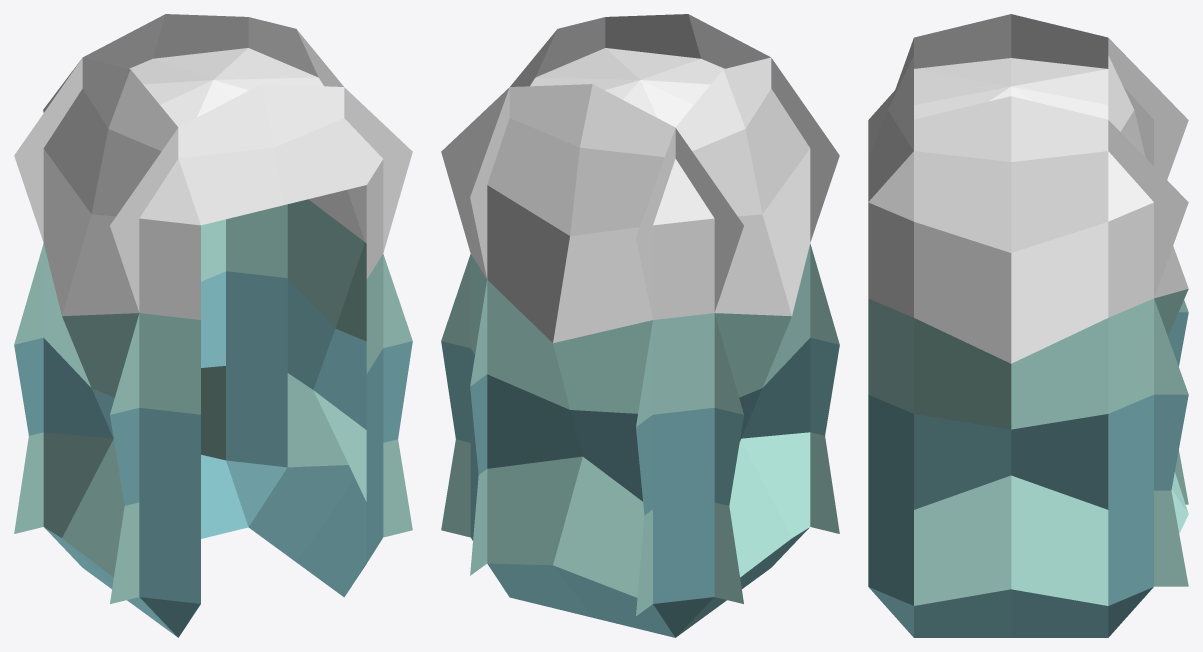
File: hedge.glb
The picture shows the model from 3 angles, left to right: view 1: azimuth 30°, elevation 25°; view 2: azimuth 150°, elevation 25°; view 3: azimuth 270°, elevation 25°; orthographic projection.
Parts seen in each view (by area): view 1: hedge; view 2: hedge; view 3: hedge.
Boxes of the visible parts, x1,y1,x2,y2 form: hedge: (14,14,412,637); hedge: (441,14,839,637); hedge: (868,14,1188,637).
Bounding box in the file's own units: 2.56 × 4.31 × 2.31.
Materials: 1 (1 with a texture image).
